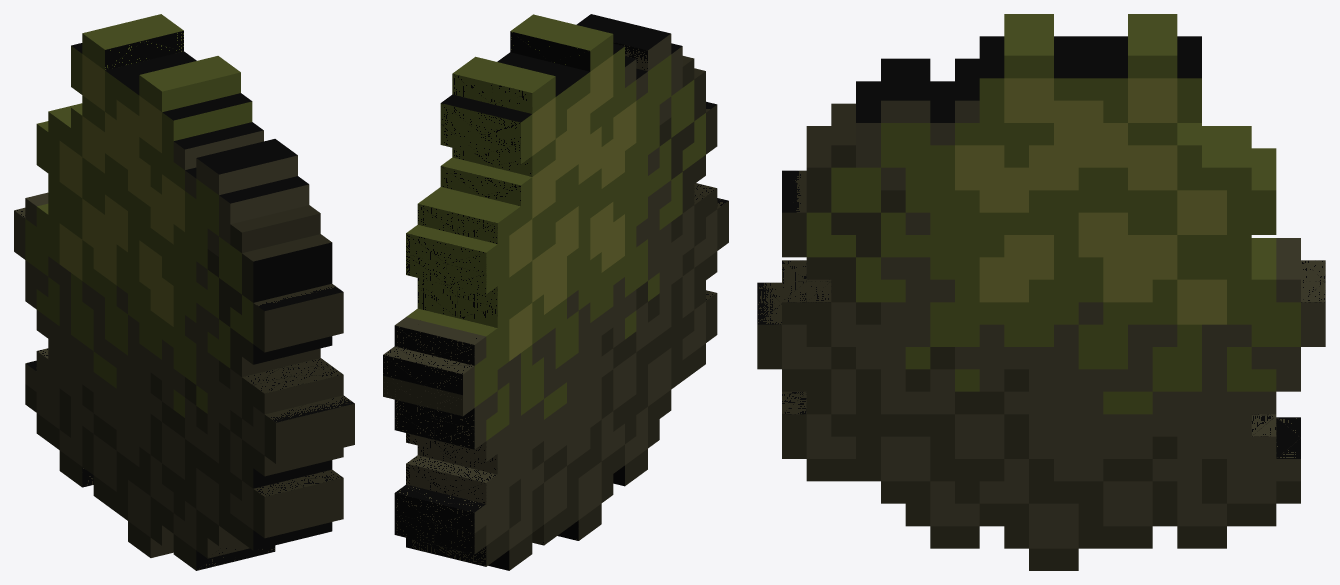
The model's file is bush-small.glb.
The picture shows the model from 3 angles, left to right: view 1: azimuth 30°, elevation 25°; view 2: azimuth 150°, elevation 25°; view 3: azimuth 270°, elevation 25°; orthographic projection. The views are drawn at different scales.
Parts seen in each view (by area): view 1: bush-small; view 2: bush-small; view 3: bush-small.
Part boxes in pixels (box(x1,y1,x2,y2)): bush-small: box(14, 14, 354, 570); bush-small: box(383, 14, 728, 570); bush-small: box(757, 14, 1325, 570).
Size of the model in its own units: 0.4 by 2.3 by 2.3.
1 material, 1 textured.
